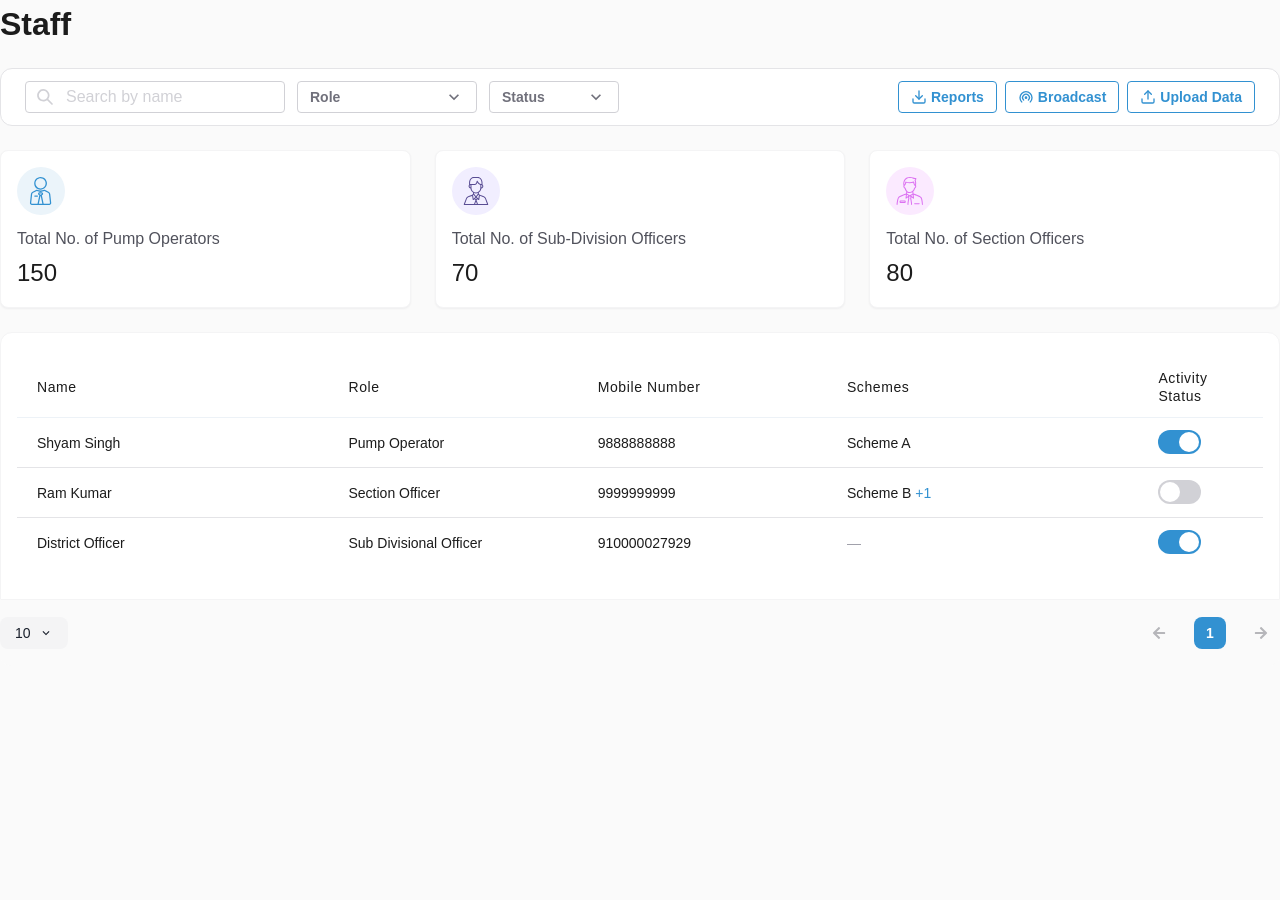
StaffSyncPage › opens upload modal when Upload Data is clicked
This screenshot has width=1280, height=900.
Click the button "Upload Data" at (1191, 97), box [1127,81,1255,113]
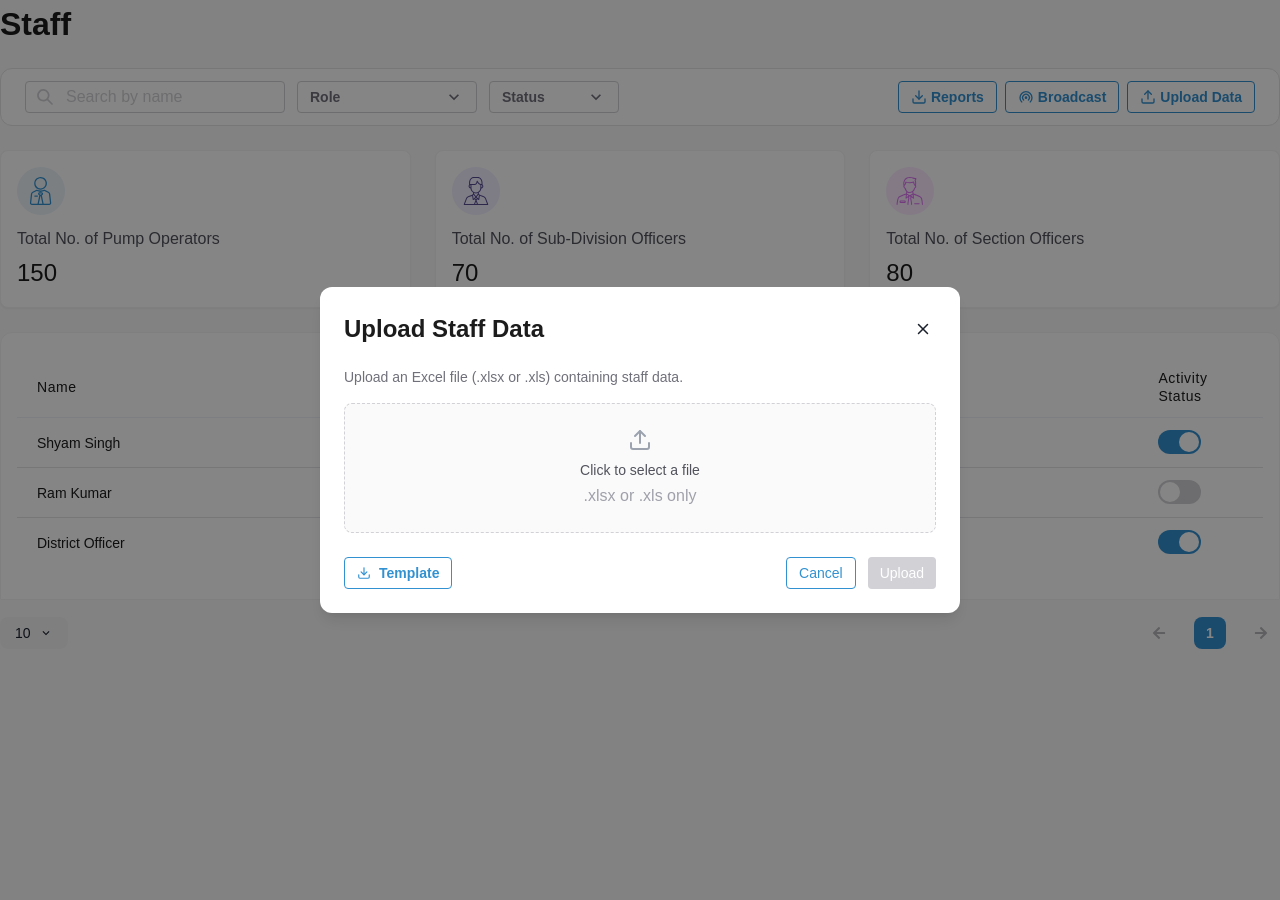
Expected: the dialog is shown, [320,287,960,613]
